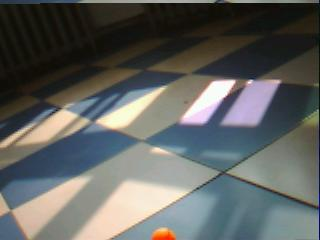oball: (152, 228, 177, 240)
